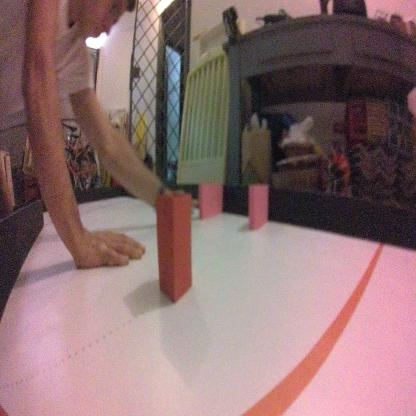magenta: (196, 176, 222, 222), (248, 180, 268, 230)
red: (154, 190, 196, 304)
